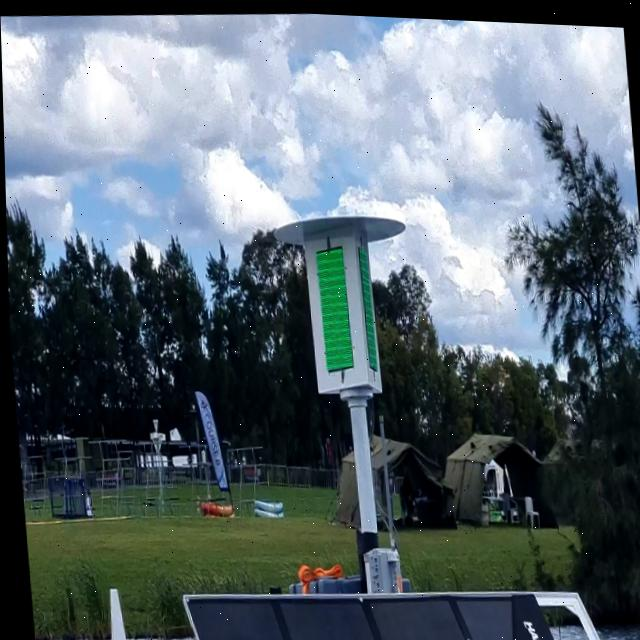led: (306, 232, 359, 375)
